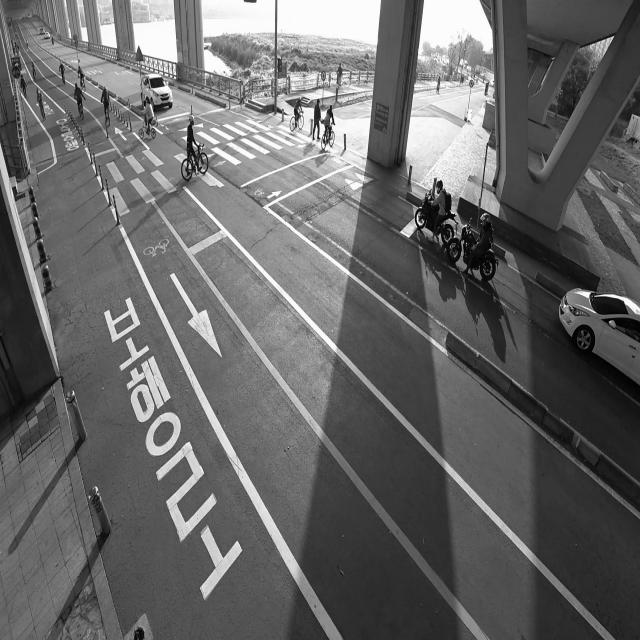Car: (545, 264, 640, 413), (138, 70, 176, 113)
Motorcycle: (445, 208, 497, 282), (414, 177, 456, 245)
